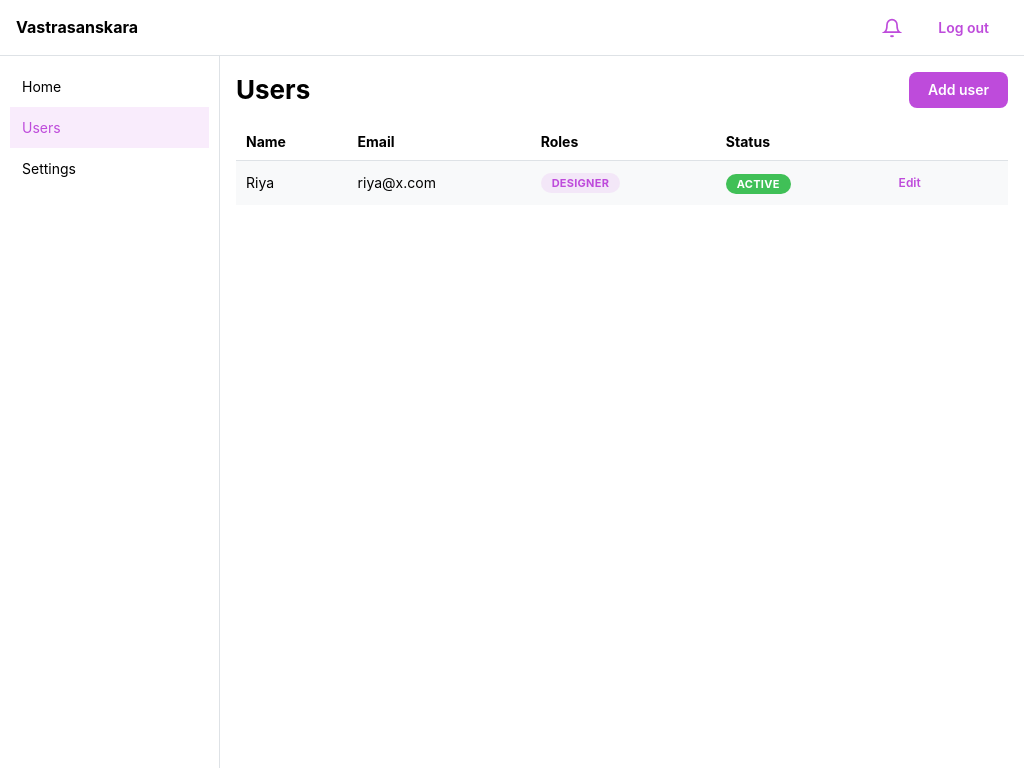
Test: edit errors such as LAST_ADMIN are shown in the dialog
Click the button with aria-label "Edit Riya": click(910, 183) [884, 168, 936, 198]
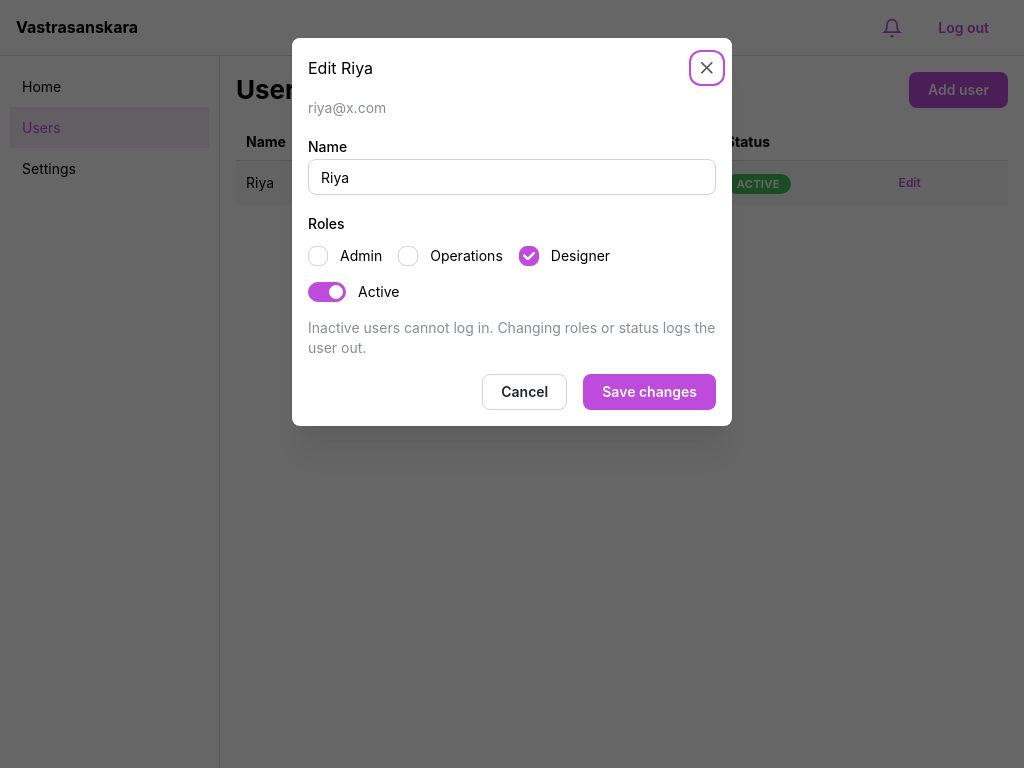
Click the switch labelled "Active": click(327, 292) [308, 282, 399, 302]
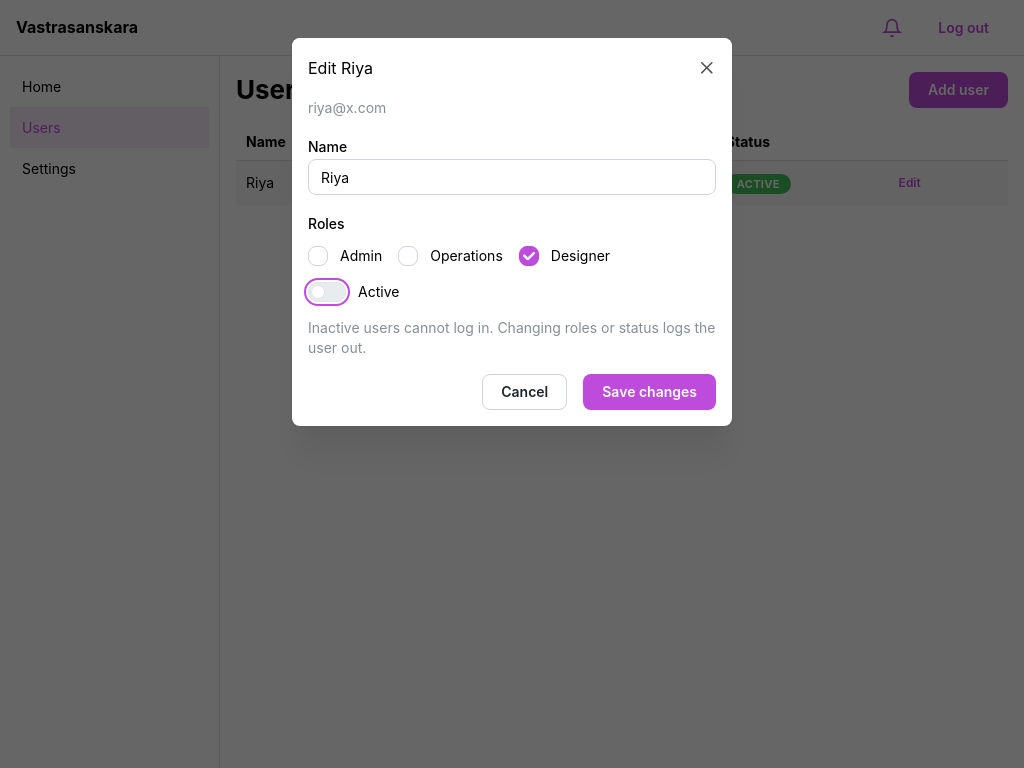
Click the button "Save changes": click(650, 393) [583, 375, 716, 411]
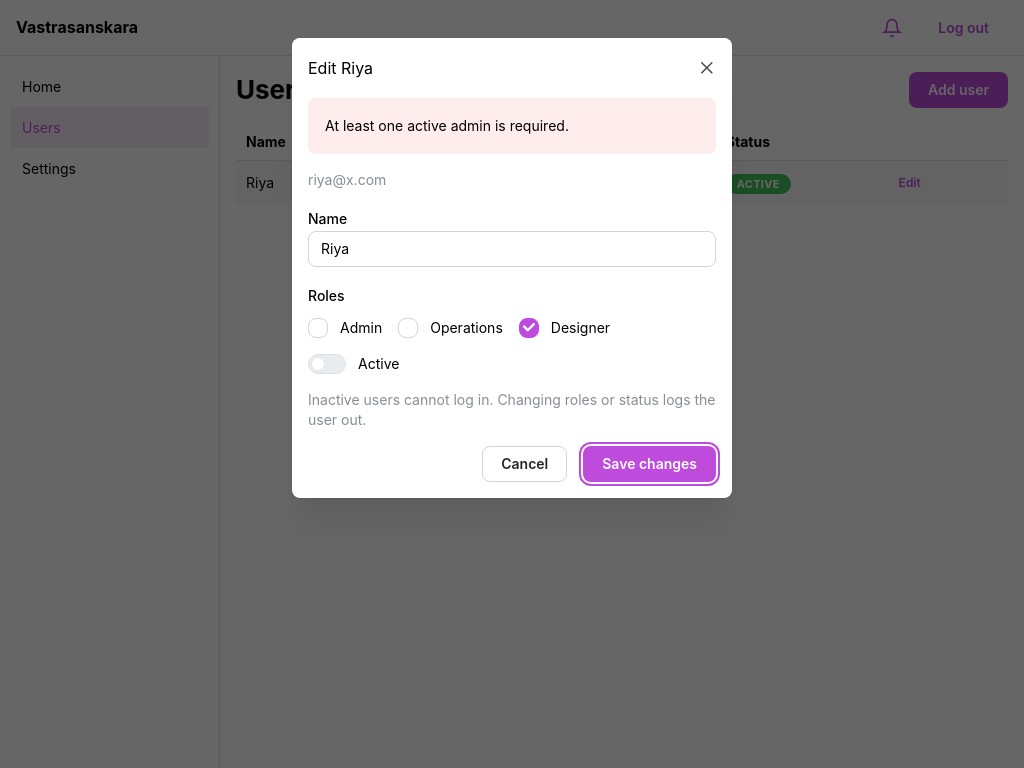
Expected: the text "At least one active admin is required." is shown, [325, 117, 569, 134]
